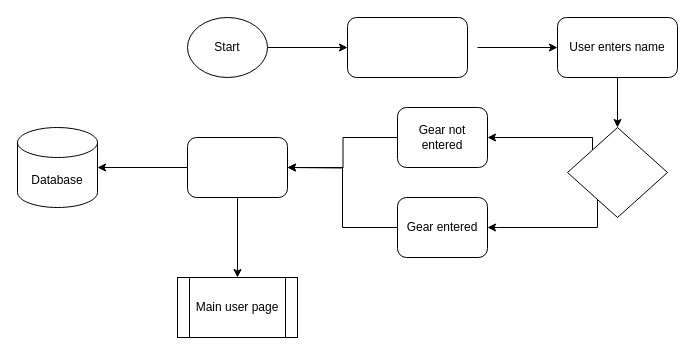
This 695x355 diagram has some shape labels left out. The shapes that lost their labels are listed below. From the top down, each one's centre as x and y in pixels, then its label:
[407,47]: User enters zip code
[237,167]: Information saved to database
[617,172]: User prompted to enter gear
